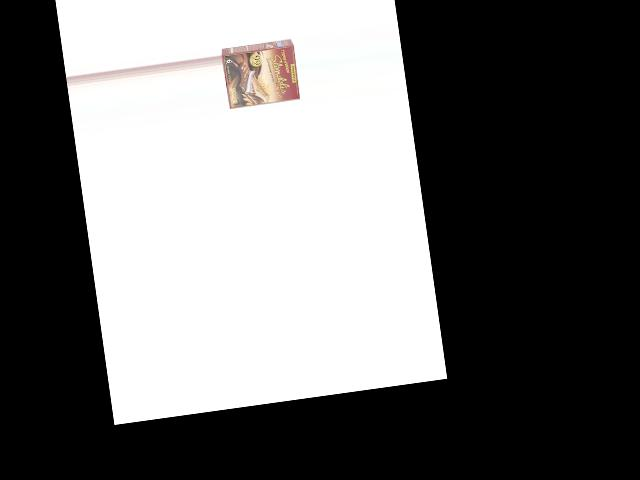chocolate: (219, 35, 303, 115)
